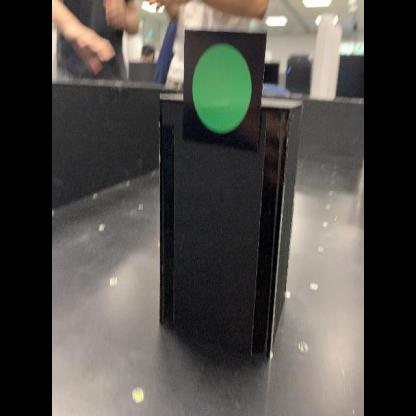go: (182, 28, 269, 157)
